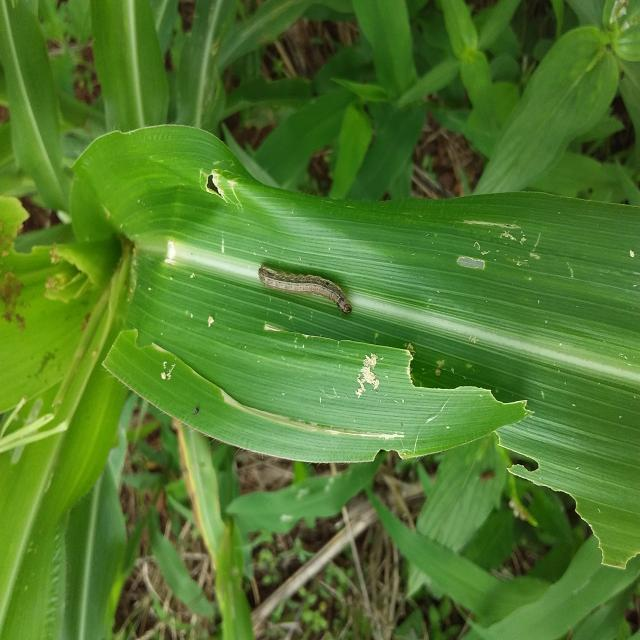yellow-stem-borer-larva: (223, 244, 375, 323)
